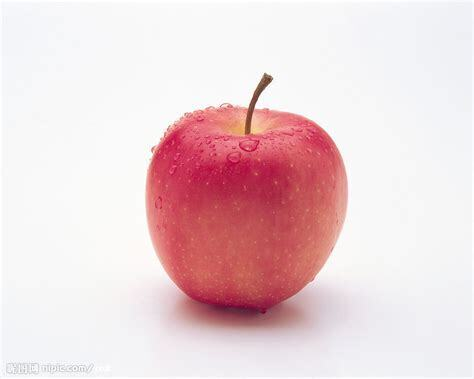apple: (145, 107, 350, 310)
